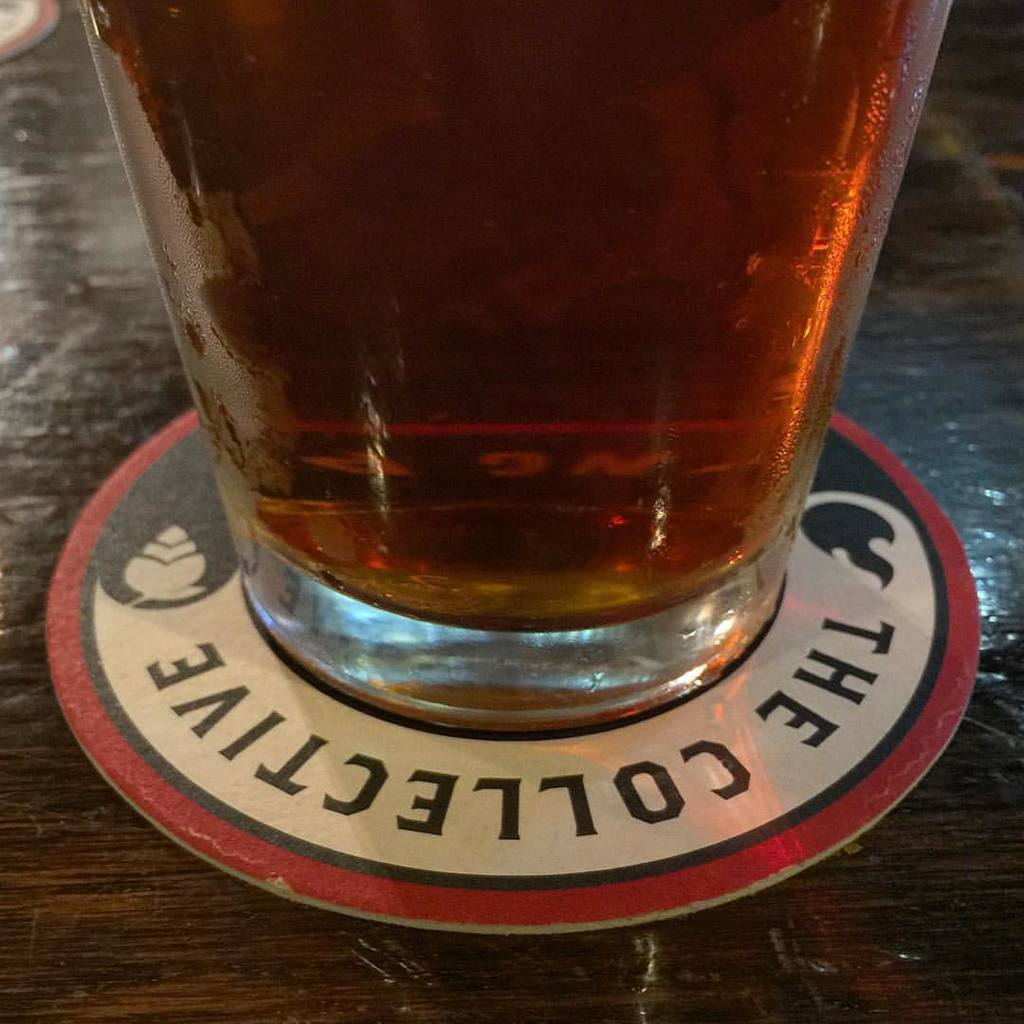Beer: (65, 0, 952, 629)
